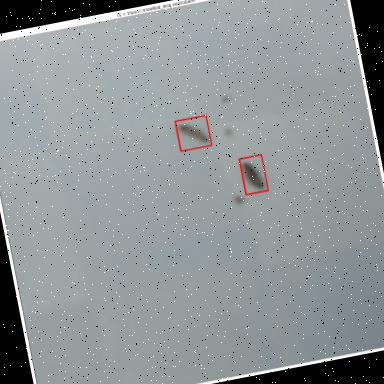pbw: (19, 307, 48, 364)
